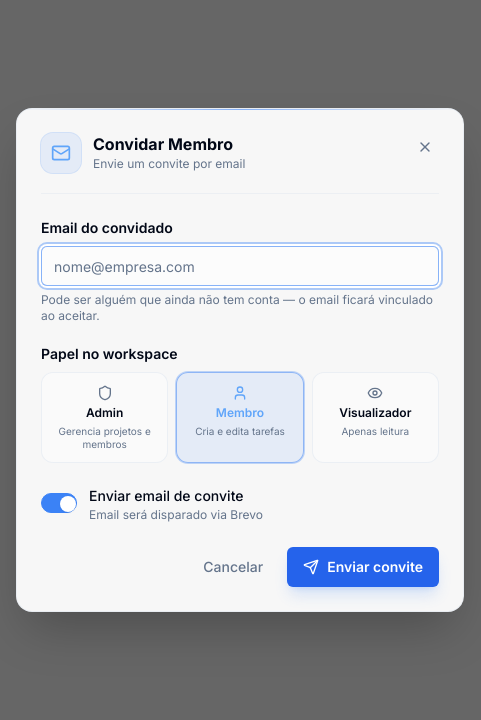
InviteDialog — resultado do envio do email › avisa quando o convite foi criado mas o email não saiu
Type "nova@empresa.com" into the field with placeholder "nome@empresa.com". click: [240, 266]
box: [41,246,439,286]
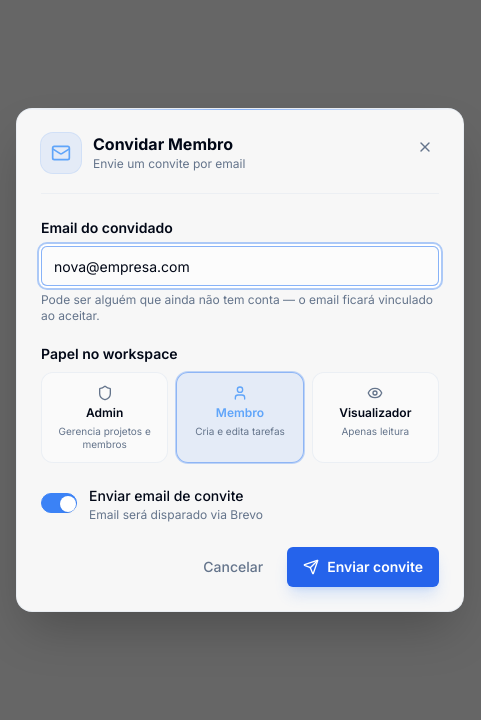
Submit the form with placeholder "@", box [17,194,463,611]
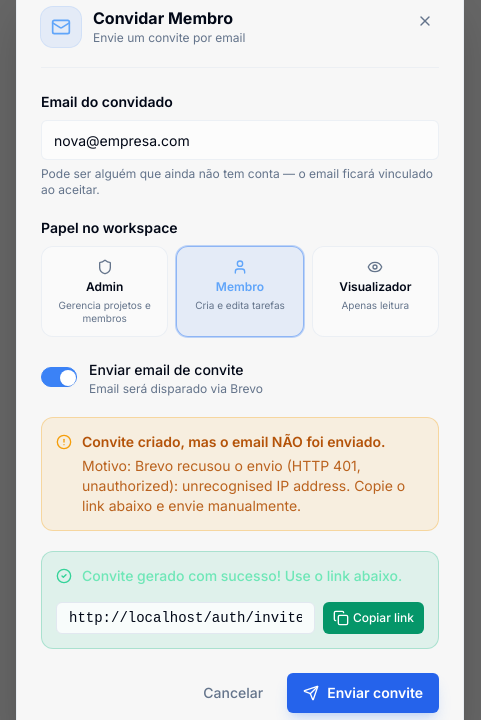
Now the text "Convite gerado com sucesso! Use o link abaixo." is shown, box [82,566,402,586]
Now the message shows "o email NÃO foi enviado", box [82,433,386,450]
Now the message shows "unrecognised IP address", box [82,457,361,494]
